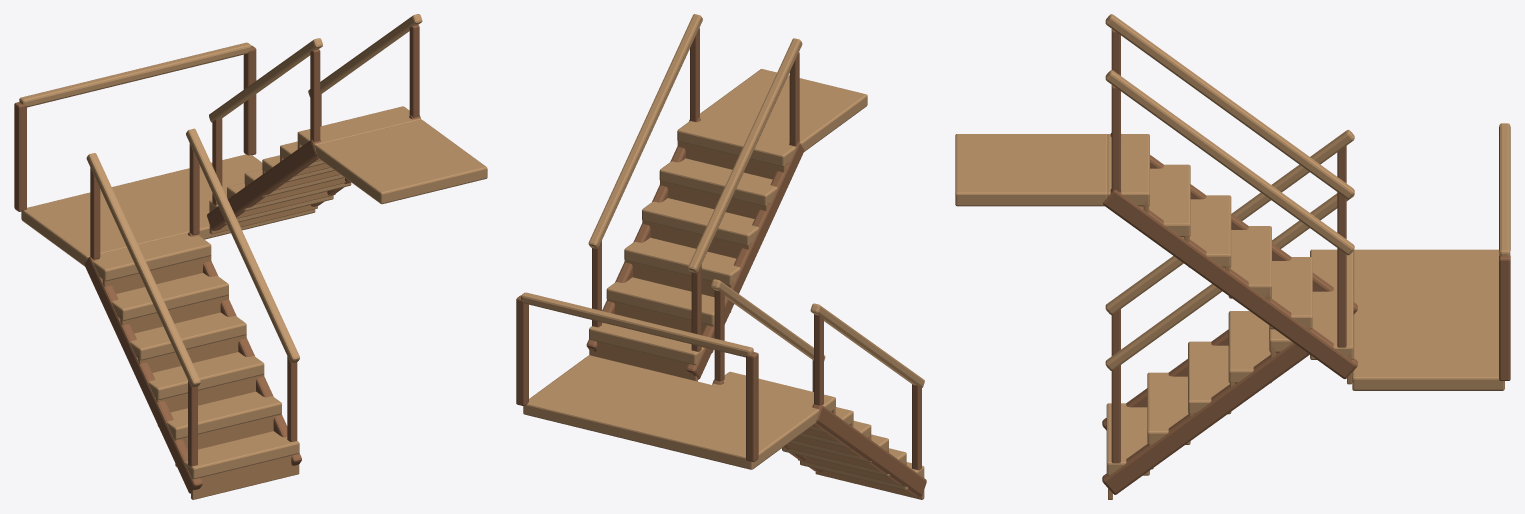
Rendered from stairs_switchback_2x4m.glb.
3 views of the same model, side by side, from view 1: azimuth 30°, elevation 25°; view 2: azimuth 150°, elevation 25°; view 3: azimuth 270°, elevation 25° (orthographic). The views are drawn at different scales.
Visible parts, largest first — view 1: stairs_switchback_2x4m; view 2: stairs_switchback_2x4m; view 3: stairs_switchback_2x4m.
Part boxes in pixels (box(x1,y1,x2,y2)): stairs_switchback_2x4m: box(14, 14, 487, 499); stairs_switchback_2x4m: box(516, 14, 926, 499); stairs_switchback_2x4m: box(955, 14, 1510, 499).
Bounding box in the file's own units: 1.87 × 3.22 × 3.28.
